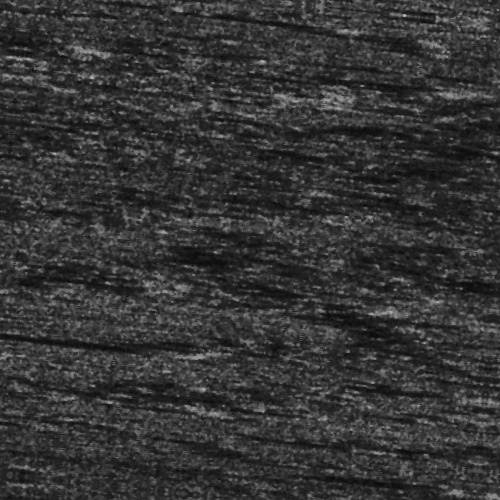object: (427, 63, 490, 74), (287, 14, 360, 21), (26, 63, 89, 68), (167, 356, 220, 361), (470, 459, 491, 466)
shadow: (314, 63, 459, 74), (172, 14, 323, 21), (0, 356, 193, 361), (351, 459, 481, 466), (435, 353, 500, 358), (0, 63, 58, 68)
